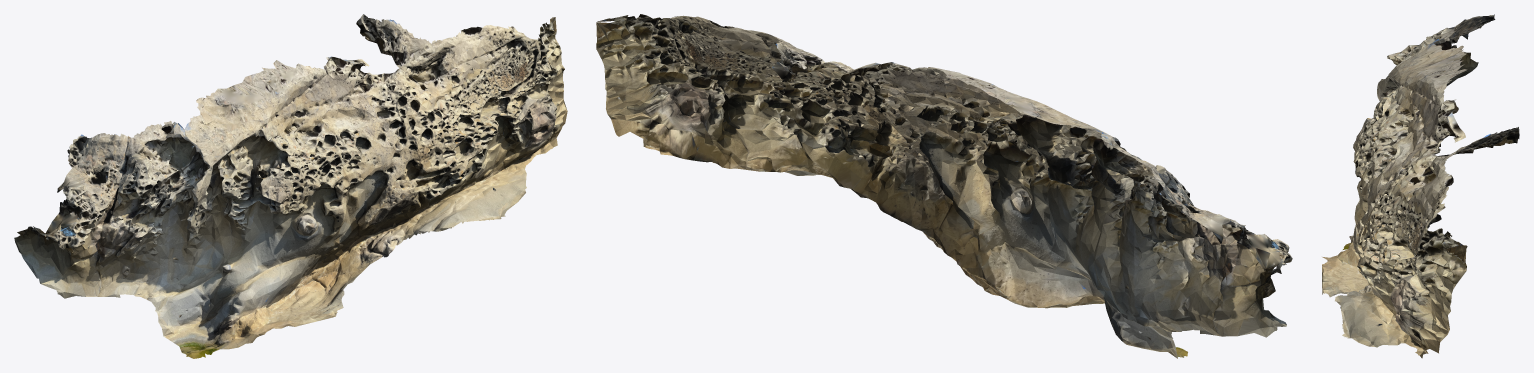
File: percaderoRock.glb
The picture shows the model from 3 angles, left to right: view 1: azimuth 30°, elevation 25°; view 2: azimuth 150°, elevation 25°; view 3: azimuth 270°, elevation 25°; orthographic projection. The views are drawn at different scales.
Parts seen in each view (by area): view 1: rockFormationWall_cropped; view 2: rockFormationWall_cropped; view 3: rockFormationWall_cropped.
Boxes of the visible parts, x1,y1,x2,y2 form: rockFormationWall_cropped: (14, 14, 567, 358); rockFormationWall_cropped: (596, 14, 1292, 358); rockFormationWall_cropped: (1322, 14, 1519, 358).
Size of the model in its own units: 58.04 by 23.53 by 16.78.
1 material, 1 textured.
